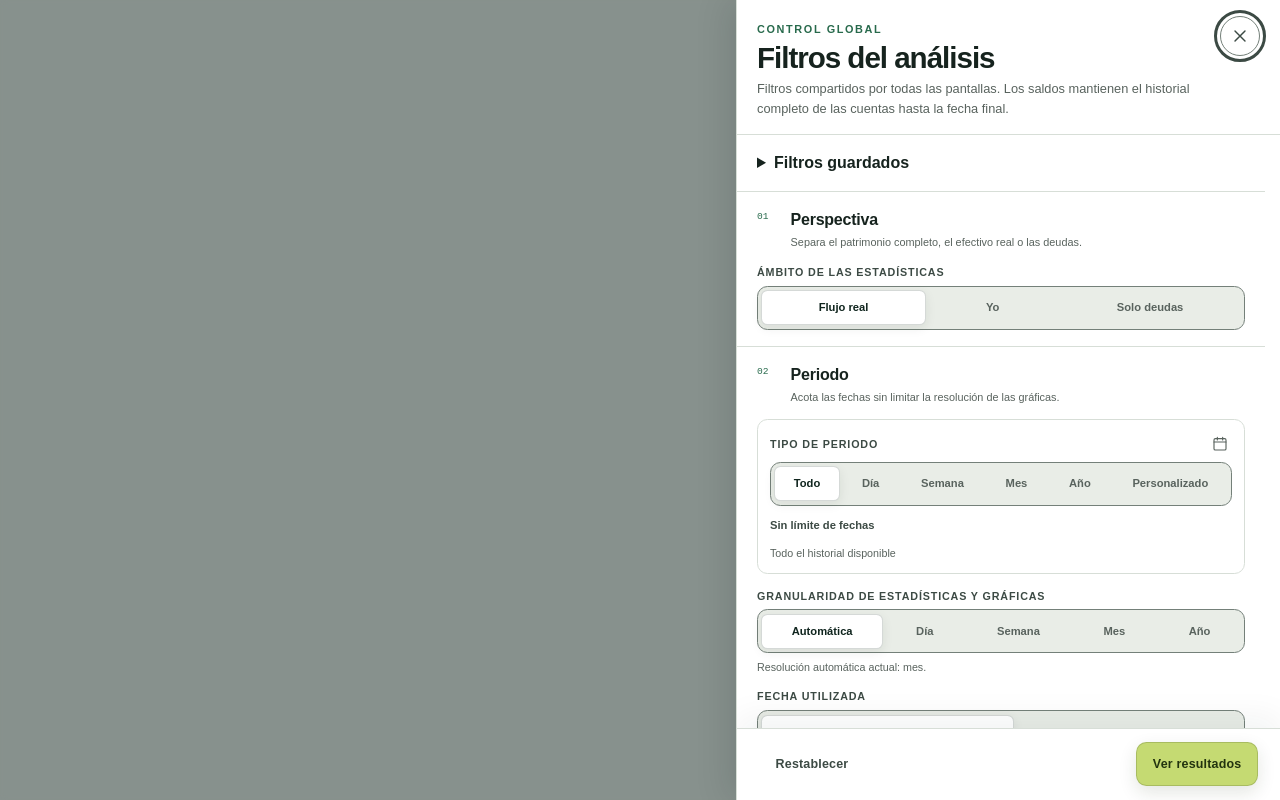
Scenario: FilterDrawer › shows only accounts compatible with the selected scope
This screenshot has width=1280, height=800.
Click the radio button labelled "Solo deudas" at {"x": 1150, "y": 307}, box [1117,301,1183,313]
(page scrolled)
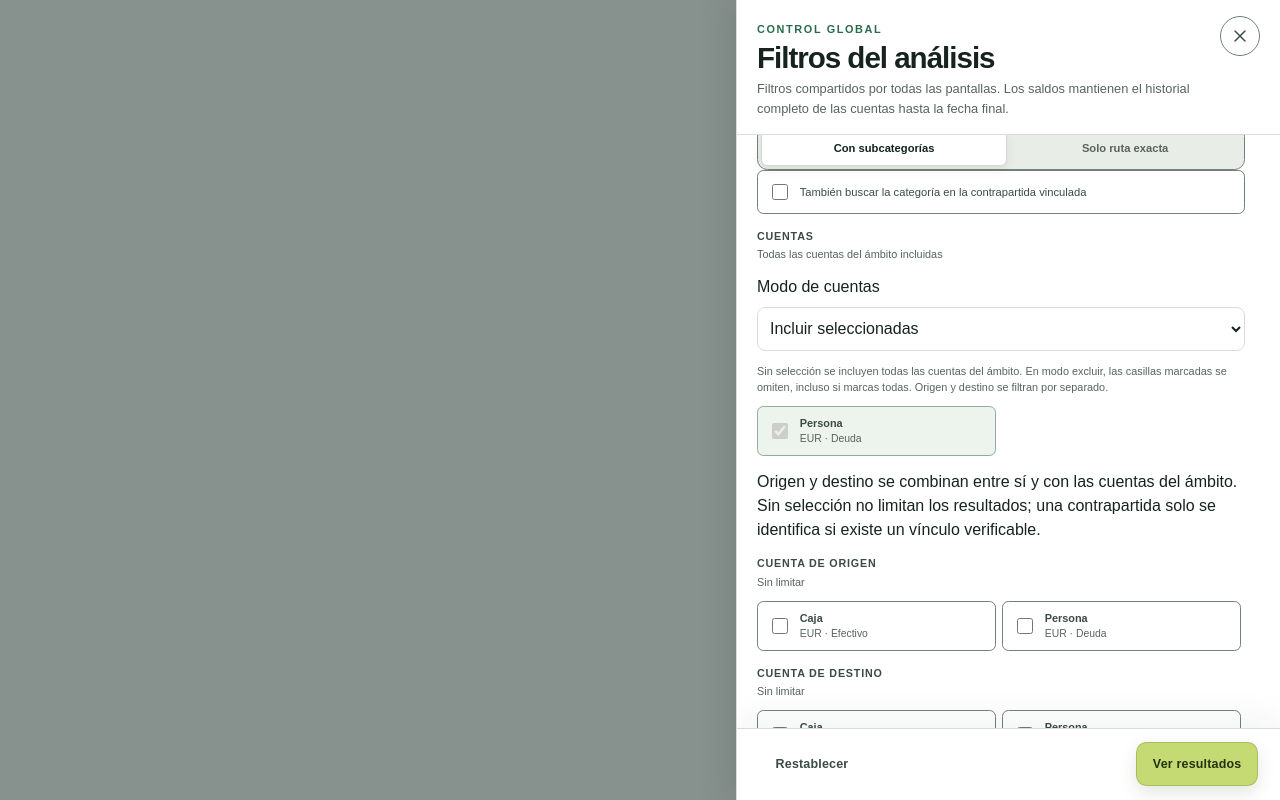
Check: the checkbox named "Persona, EUR, Deuda" is shown, box [772,423,788,439]
